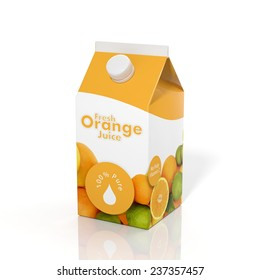carton: (66, 30, 196, 265)
